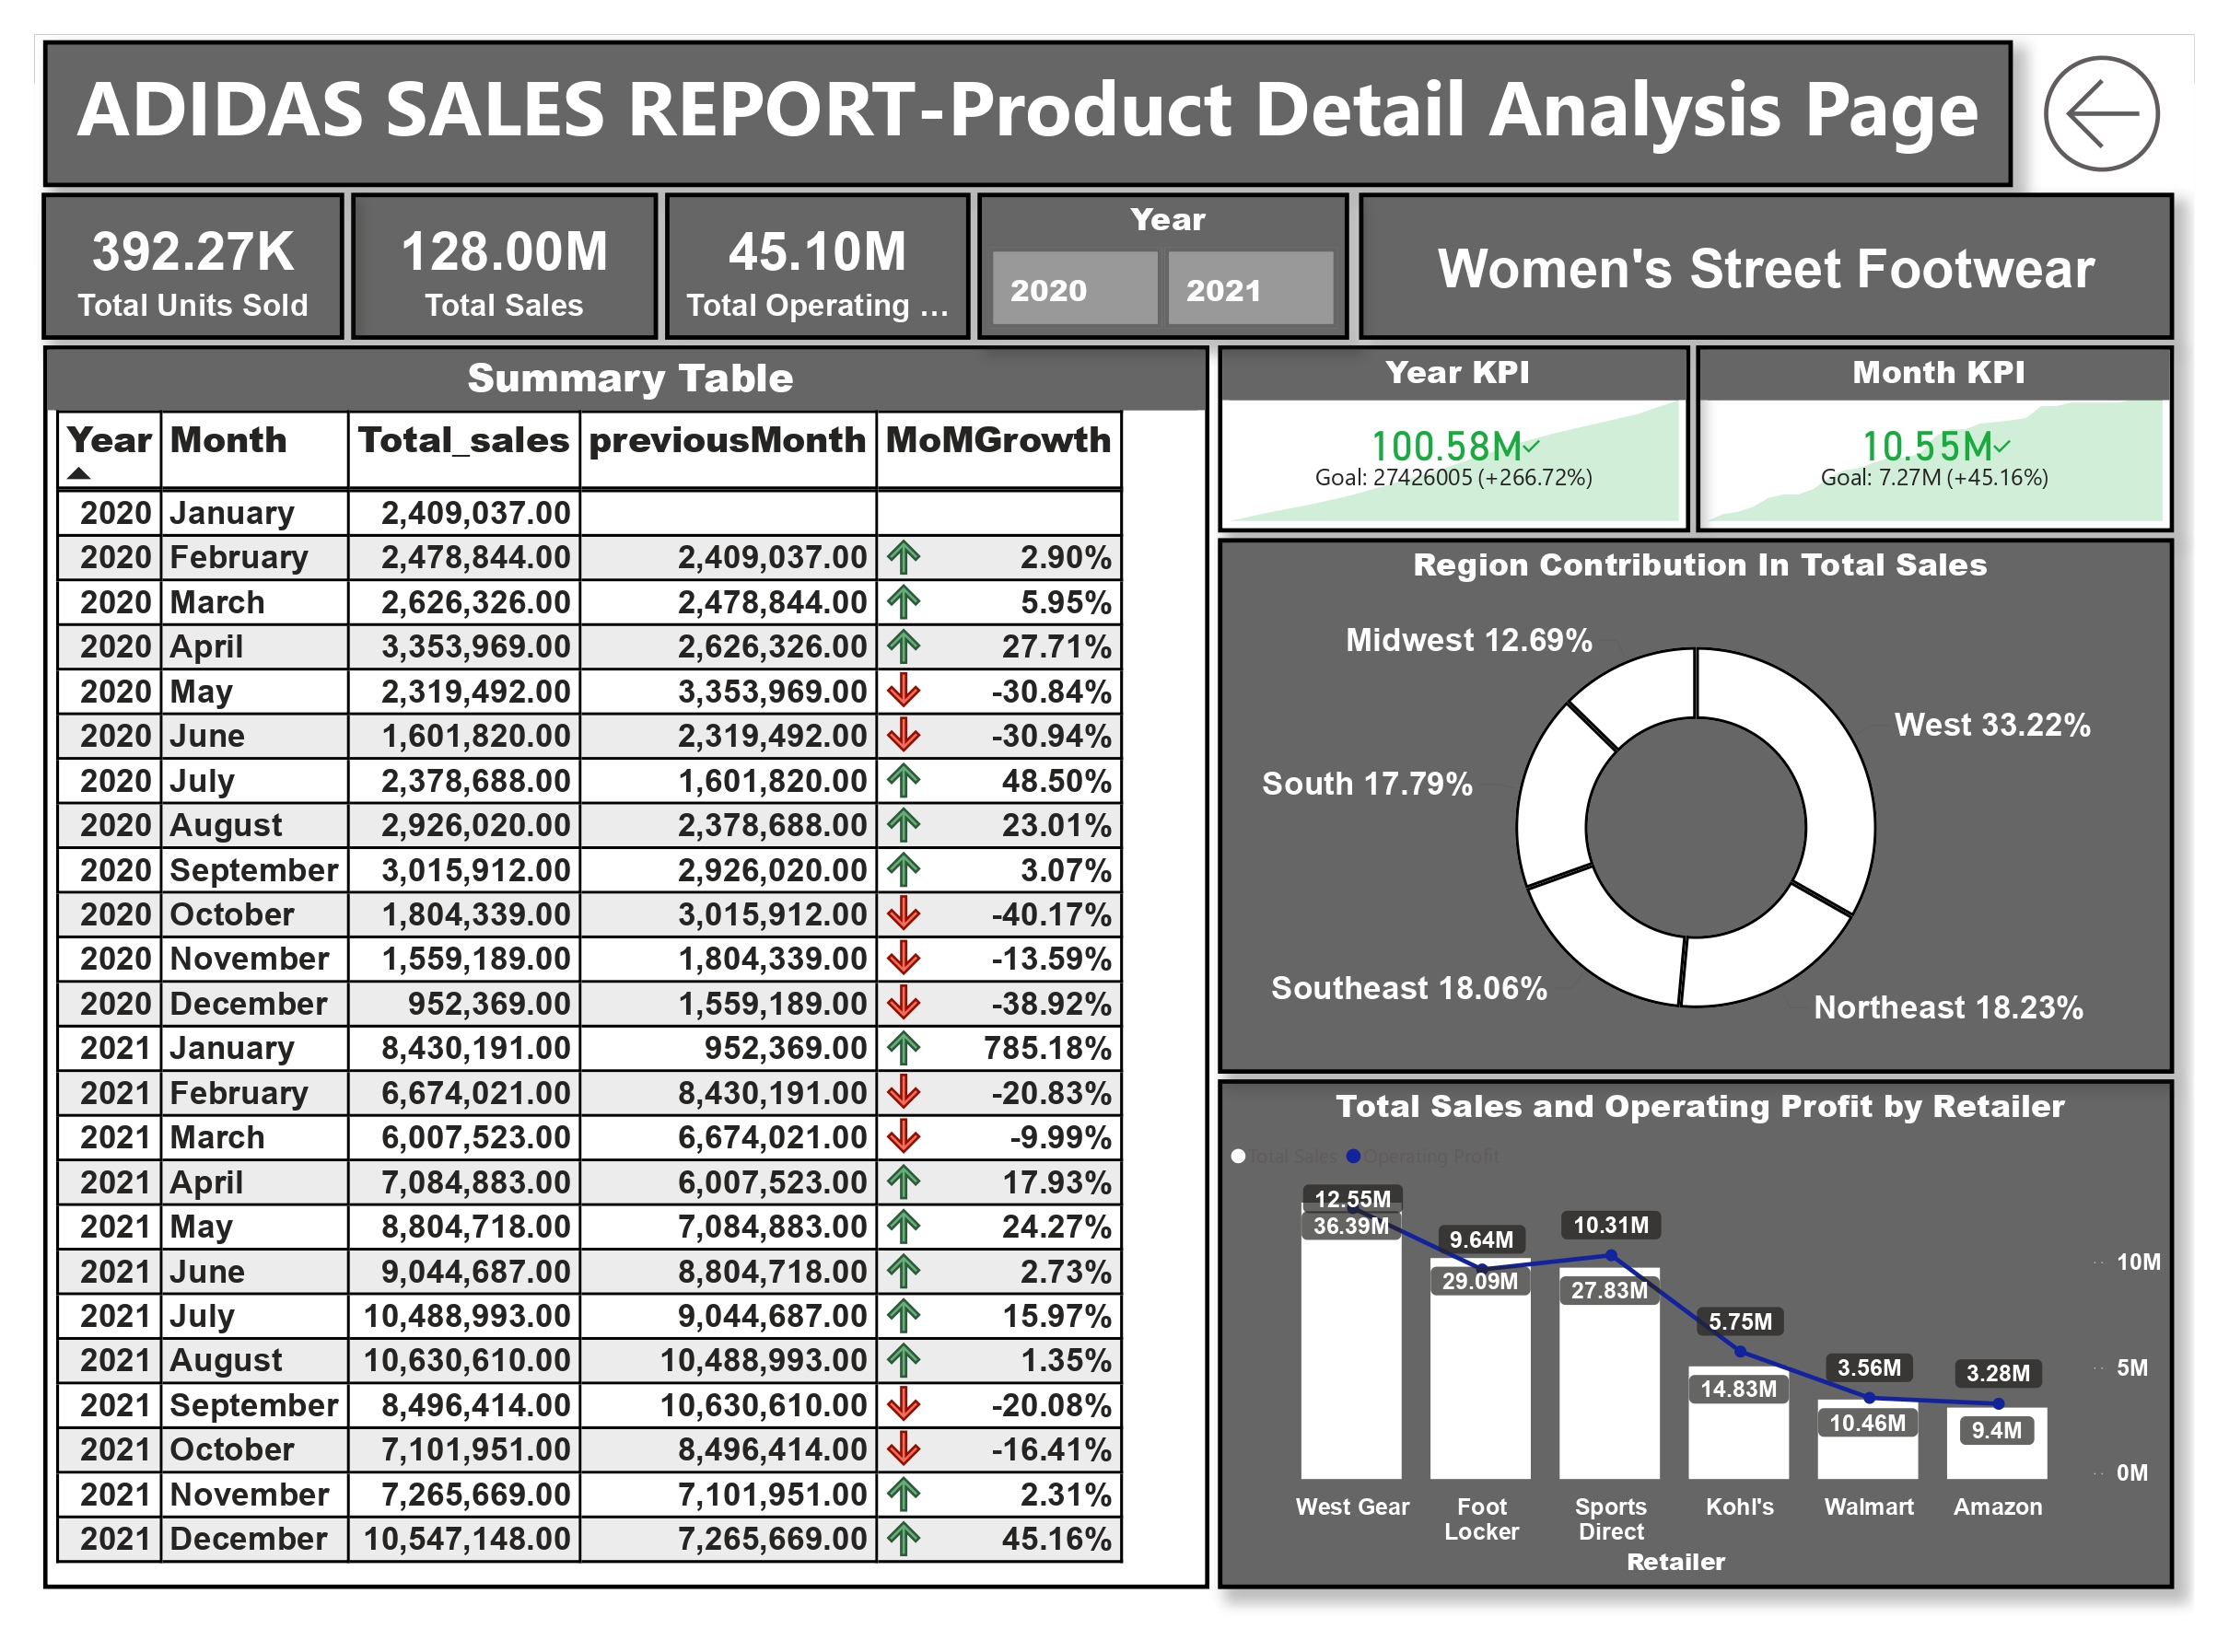

This screenshot's page, from the dashboard's own definition file:
{"tool":"powerbi","page":{"name":"Product-Detail Analysis","canvas":[1500,1100],"ordinal":1},"visuals":[{"type":"textbox","box":[6,4,1368,102],"z":0},{"type":"card","fields":{"Values":["Sum(Sales Adidas.Total Sales)"]},"box":[220,110,213.3,101.7],"z":1000},{"type":"card","fields":{"Values":["Sum(Sales Adidas.Units Sold)"]},"box":[5,110,210,102],"z":2000},{"type":"card","fields":{"Values":["Sum(Sales Adidas.Operating Profit)"]},"box":[438,110,211.7,101.7],"z":3000},{"type":"card","fields":{"Values":["Min(Sales Adidas.Product)"]},"box":[920,110,566,102],"z":4000},{"type":"kpi","title":"Year KPI","fields":{"Indicator":["Sales Adidas.TotalYTD"],"Goal":["Sales Adidas.previousYear"],"TrendLine":["Date_Master_table.Date.Variation.Date Hierarchy.Month"]},"box":[822,216,328,130],"z":5000},{"type":"kpi","title":"Month KPI","fields":{"Indicator":["Sales Adidas.TotalMTD"],"Goal":["Sales Adidas.previousMonth"],"TrendLine":["Date_Master_table.Date.Variation.Date Hierarchy.Day"]},"box":[1154,216,332,130],"z":6000},{"type":"tableEx","title":"Summary  Table ","fields":{"Values":["Date_Master_table.Date.Variation.Date Hierarchy.Year","Date_Master_table.Date.Variation.Date Hierarchy.Month","Sales Adidas.Total_sales","Sales Adidas.previousMonth","Sales Adidas.MoMGrowth"]},"box":[6,216,810,864],"z":7000},{"type":"lineStackedColumnComboChart","fields":{"Category":["Sales Adidas.Retailer"],"Y":["Sum(Sales Adidas.Total Sales)"],"Y2":["Sum(Sales Adidas.Operating Profit)"]},"box":[822,726,664,354],"z":8000},{"type":"advancedSlicerVisual","fields":{"Values":["Date_Master_table.Date.Variation.Date Hierarchy.Year"]},"box":[655,110,258,102],"z":9000},{"type":"donutChart","title":"Region Contribution In Total Sales","fields":{"Y":["Sum(Sales Adidas.Total Sales)"],"Category":["Sales Adidas.Region"]},"box":[822,350,664,372],"z":10000},{"type":"actionButton","box":[1386,4,100,102],"z":11000}]}

Visuals, with their boxes on the page's 1500x1100 design canvas (x1, y1, x2, y2). These are canvas units, not pixel positions in the 2229x1652 screenshot, which may show the page scaled, cropped or inside an application window:
textbox: region(6, 4, 1374, 106)
card - Sum(Sales Adidas.Total Sales): region(220, 110, 433, 212)
card - Sum(Sales Adidas.Units Sold): region(5, 110, 215, 212)
card - Sum(Sales Adidas.Operating Profit): region(438, 110, 650, 212)
card - Min(Sales Adidas.Product): region(920, 110, 1486, 212)
"Year KPI" kpi: region(822, 216, 1150, 346)
"Month KPI" kpi: region(1154, 216, 1486, 346)
"Summary  Table " tableEx: region(6, 216, 816, 1080)
lineStackedColumnComboChart - Sales Adidas.Retailer x Sum(Sales Adidas.Total Sales): region(822, 726, 1486, 1080)
advancedSlicerVisual - Date_Master_table.Date.Variation.Date Hierarchy.Year: region(655, 110, 913, 212)
"Region Contribution In Total Sales" donutChart: region(822, 350, 1486, 722)
actionButton: region(1386, 4, 1486, 106)
